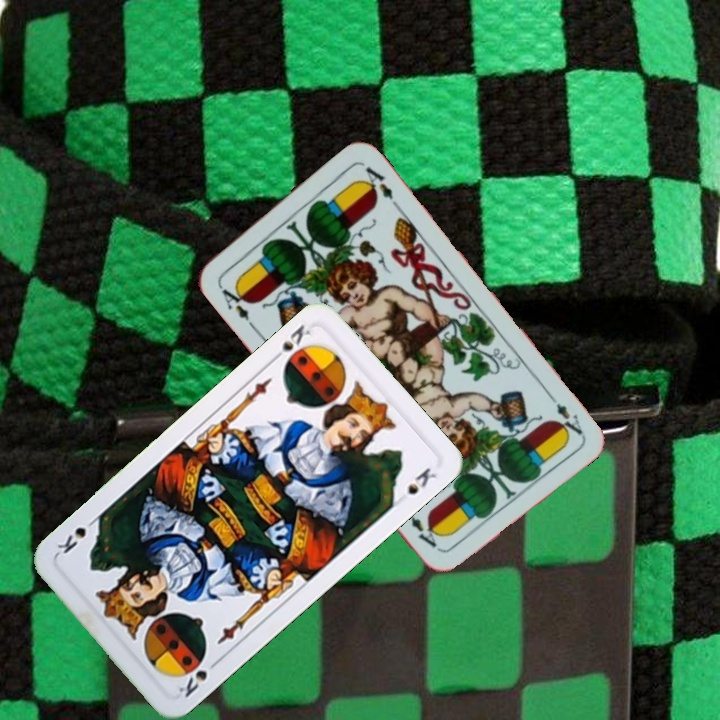EA: (542, 388, 585, 440), (214, 279, 253, 324)
SK: (266, 320, 315, 371), (174, 655, 223, 701)
